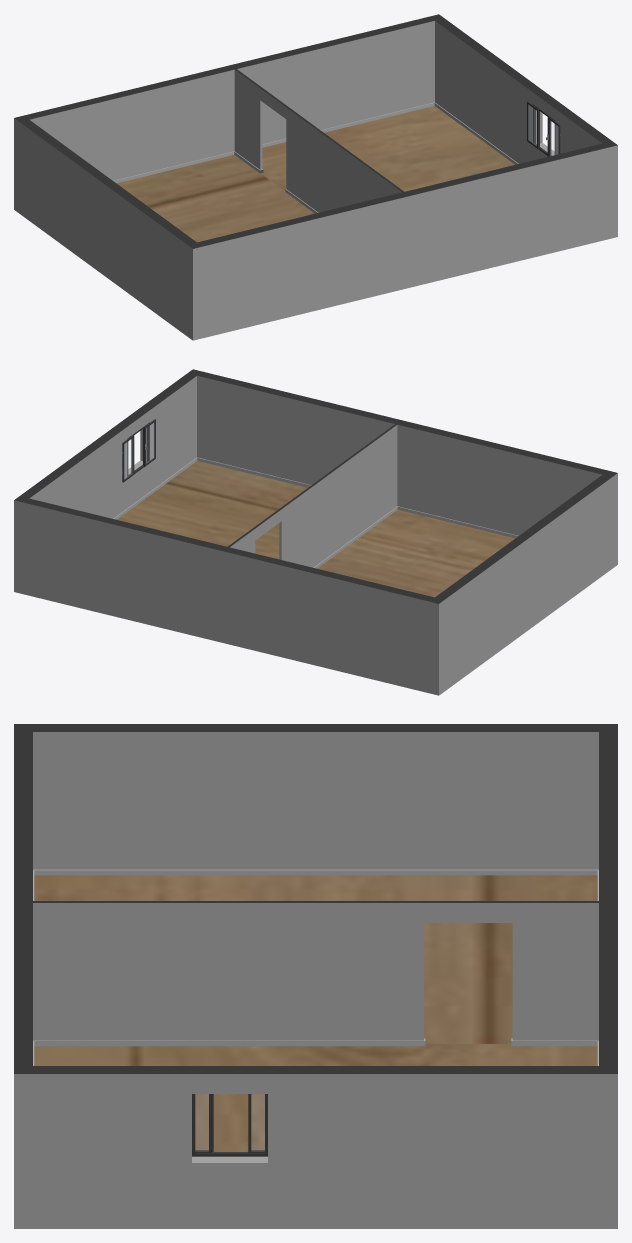
3 views of the same model, one above another, from view 1: azimuth 30°, elevation 25°; view 2: azimuth 150°, elevation 25°; view 3: azimuth 270°, elevation 25° (orthographic). The views are drawn at different scales.
Visible parts, largest first — view 1: wall.pane.002, wall.pane.003, wall.pane.009, wall.pane.005, flooring.001, flooring, wall.pane.004, wall.pane.008, wall.wall-cap.001, wall.wall-cap.003, wall.wall-cap, wall.wall-cap.002 (+3 smaller); view 2: wall.pane, wall.pane.003, wall.pane.007, wall.pane.011, wall.pane.008, flooring.001, flooring, wall.pane.004, wall.wall-cap.001, wall.wall-cap.003, wall.wall-cap, wall.wall-cap.002 (+3 smaller); view 3: wall.pane.001, wall.pane.006, wall.pane.010, flooring, flooring.001, wall.wall-cap.001, wall.wall-cap.003, wall.wall-cap.002, wall.wall-cap, baseboard-root.002, baseboard-root.006, wall.wall-cap.004 (+3 smaller).
Boxes of the visible parts, bbox=[...] form: wall.pane.002: bbox=[193, 145, 617, 340]; wall.pane.003: bbox=[14, 118, 192, 340]; wall.pane.009: bbox=[237, 21, 434, 144]; wall.pane.005: bbox=[30, 69, 234, 180]; flooring.001: bbox=[261, 106, 514, 191]; flooring: bbox=[117, 155, 314, 242]; wall.pane.004: bbox=[435, 21, 602, 163]; wall.pane.008: bbox=[234, 70, 401, 212]; wall.wall-cap.001: bbox=[15, 14, 438, 119]; wall.wall-cap.003: bbox=[193, 143, 616, 248]; wall.wall-cap: bbox=[435, 14, 617, 145]; wall.wall-cap.002: bbox=[14, 118, 196, 248]; wall.pane: bbox=[14, 500, 438, 695]; wall.pane.003: bbox=[439, 473, 617, 695]; wall.pane.007: bbox=[397, 424, 601, 535]; wall.pane.011: bbox=[197, 376, 394, 484]; wall.pane.008: bbox=[230, 425, 397, 567]; flooring.001: bbox=[117, 461, 307, 559]; flooring: bbox=[317, 510, 514, 597]; wall.pane.004: bbox=[29, 376, 196, 518]; wall.wall-cap.001: bbox=[15, 498, 438, 603]; wall.wall-cap.003: bbox=[193, 369, 616, 474]; wall.wall-cap: bbox=[14, 369, 196, 500]; wall.wall-cap.002: bbox=[435, 473, 617, 603]; wall.pane.001: bbox=[14, 1074, 617, 1228]; wall.pane.006: bbox=[33, 732, 598, 869]; wall.pane.010: bbox=[33, 903, 598, 1040]; flooring: bbox=[34, 875, 597, 1043]; flooring.001: bbox=[34, 1044, 597, 1151]; wall.wall-cap.001: bbox=[599, 724, 617, 1073]; wall.wall-cap.003: bbox=[14, 724, 32, 1073]; wall.wall-cap.002: bbox=[14, 724, 617, 731]; wall.wall-cap: bbox=[15, 1066, 616, 1073]; baseboard-root.002: bbox=[33, 869, 598, 875]; baseboard-root.006: bbox=[34, 1038, 597, 1046]; wall.wall-cap.004: bbox=[33, 901, 598, 902].
Size of the model in its own units: 1309 by 270 by 954.
Materials: 8 (1 with a texture image).
